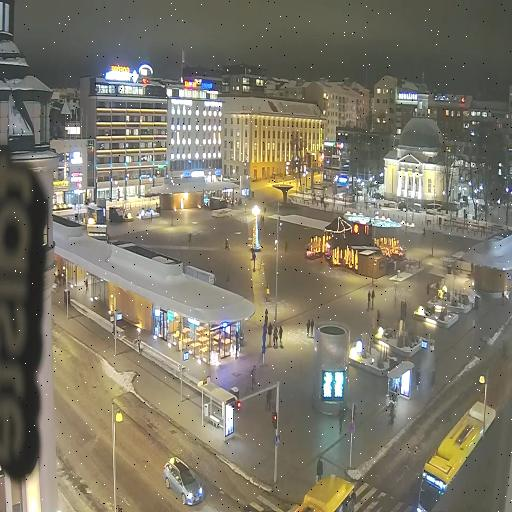Bus: (417, 402, 496, 512), (296, 475, 357, 512)
